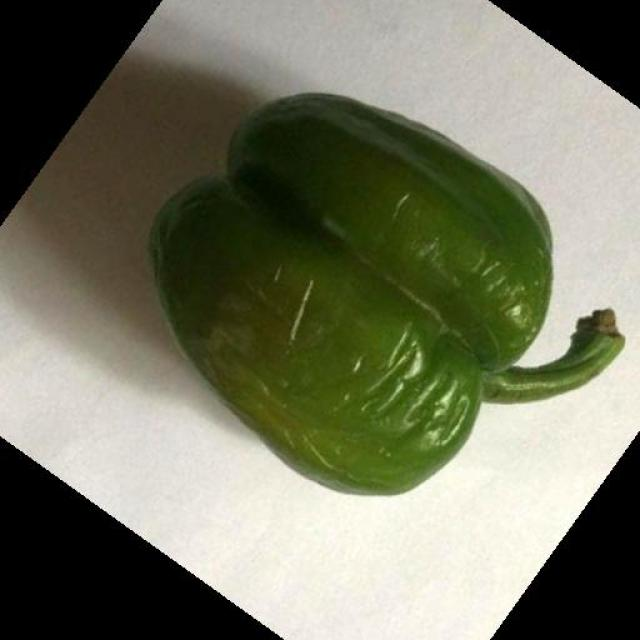Stale_Capsicum: (143, 61, 612, 491)
